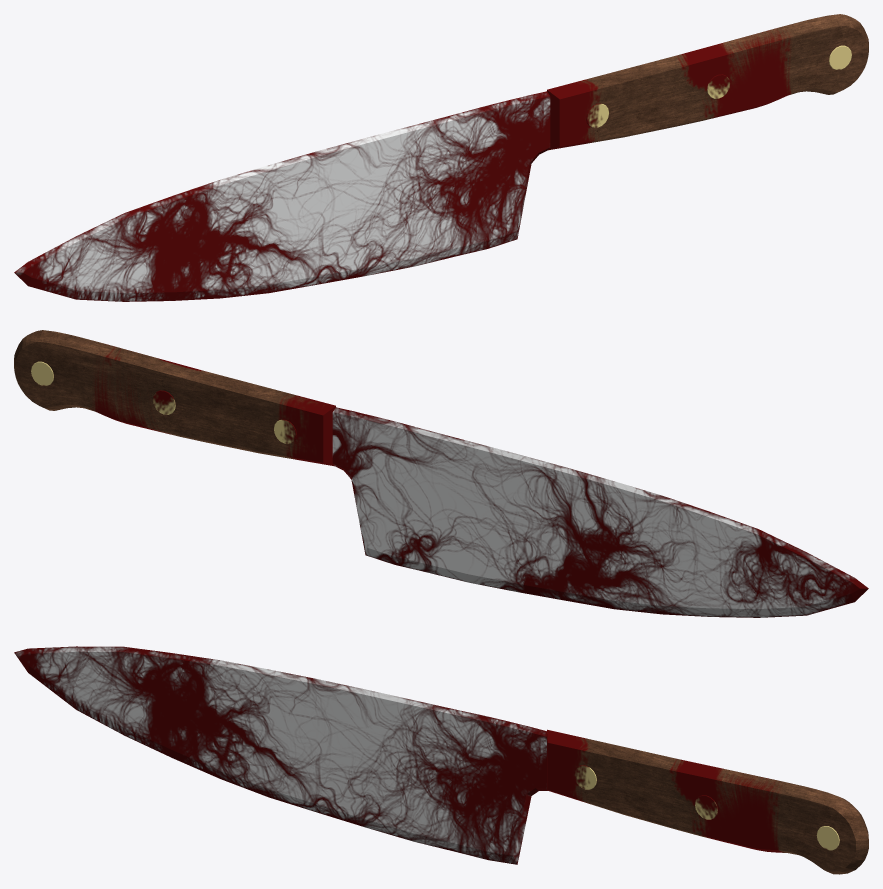
Rendered from enemy_knife.glb.
The picture shows the model from 3 angles, top to bottom: view 1: azimuth 30°, elevation 25°; view 2: azimuth 150°, elevation 25°; view 3: azimuth 330°, elevation 25°; orthographic projection.
Parts seen in each view (by area): view 1: Plane.001, Plane, Plane.002; view 2: Plane.001, Plane, Plane.002; view 3: Plane.001, Plane, Plane.002.
Part boxes in pixels (x1,y1,x2,y2): Plane.001: (14,91,550,301); Plane: (547,14,868,150); Plane.002: (586,45,851,127); Plane.001: (332,407,868,617); Plane: (14,330,335,466); Plane.002: (31,361,296,443); Plane.001: (14,646,547,864); Plane: (547,729,868,874); Plane.002: (574,765,839,850).
Size of the model in its own units: 411 by 69.37 by 10.55.
3 materials, 3 textured.
